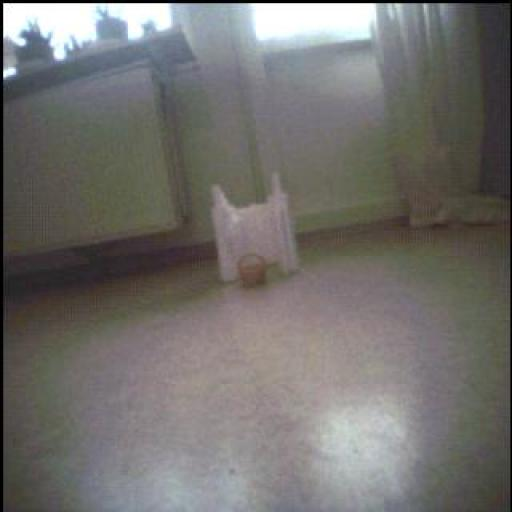Basket: (240, 254, 269, 287)
